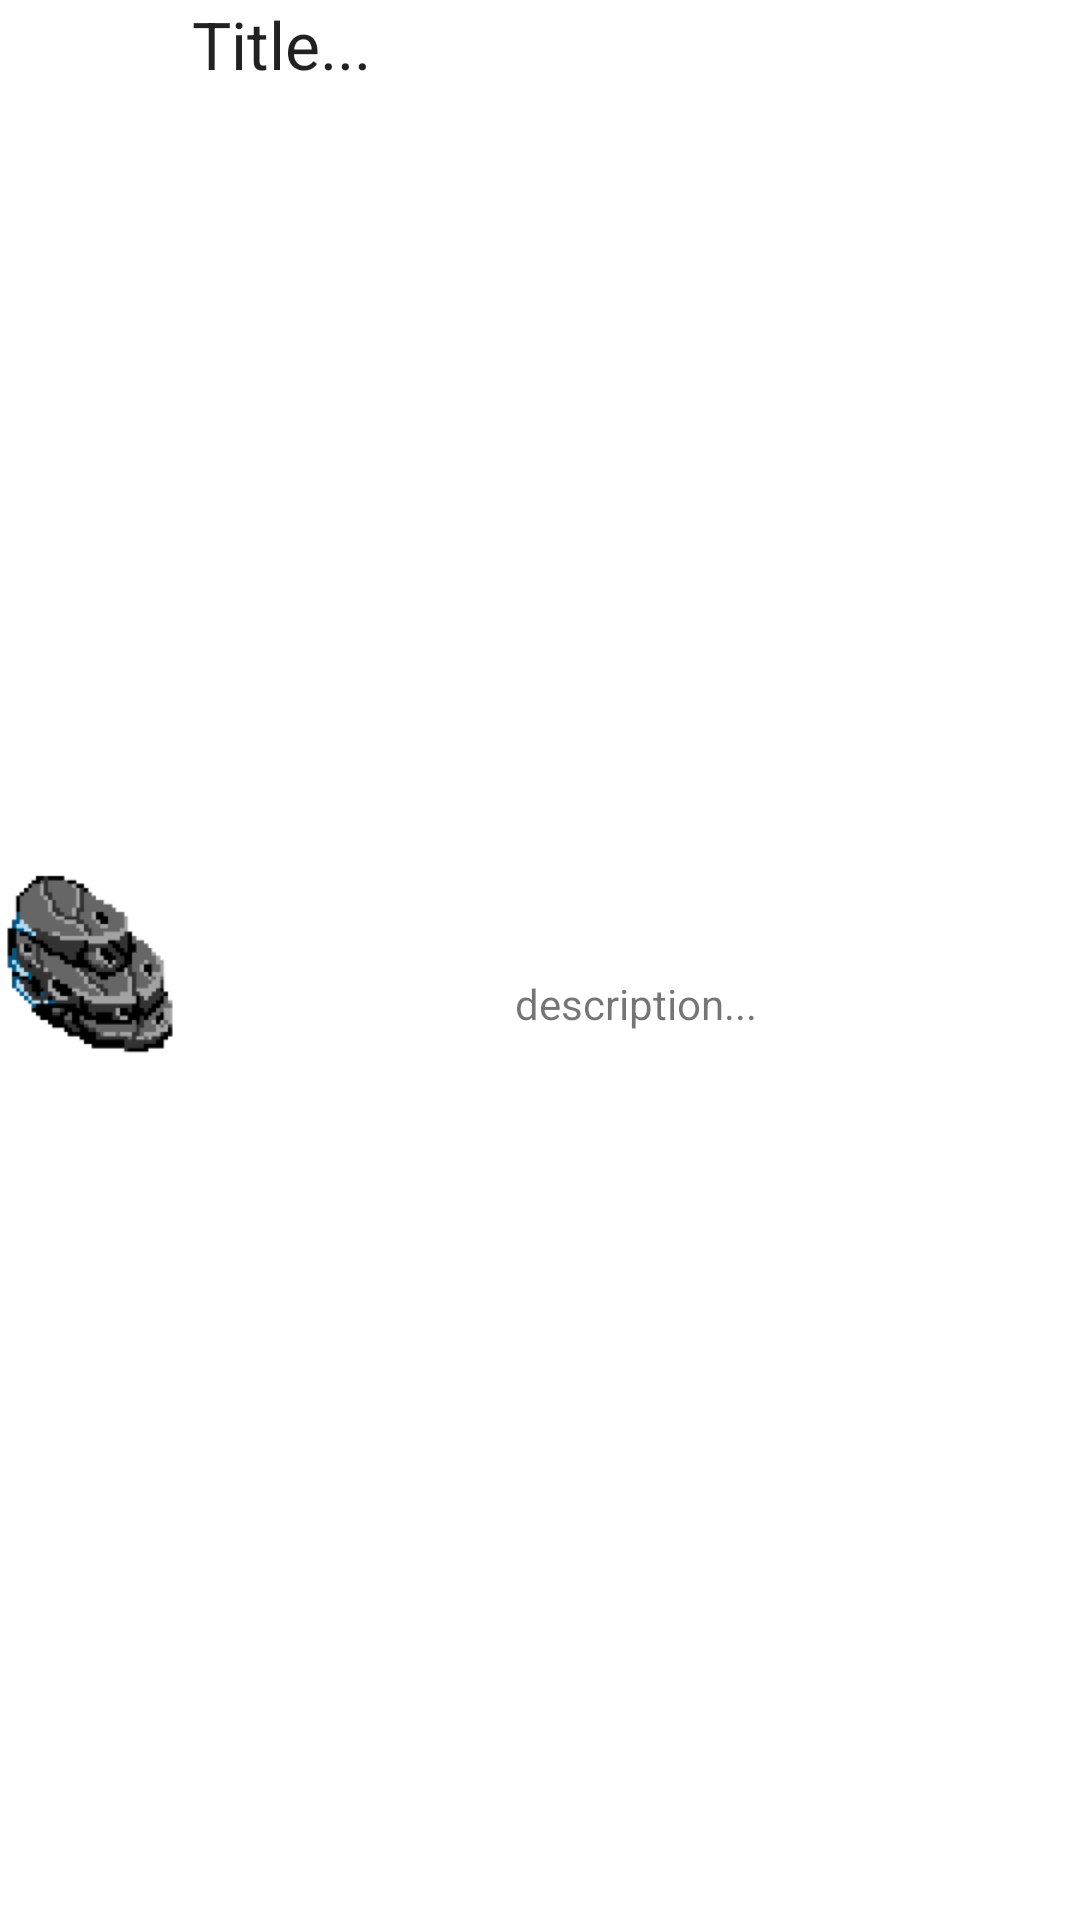

Named icons in this screenshot (1080 × 1920) and their bounding boxes, (x1, y1, x2, y2):
asteroid: (7, 875, 173, 1053)
